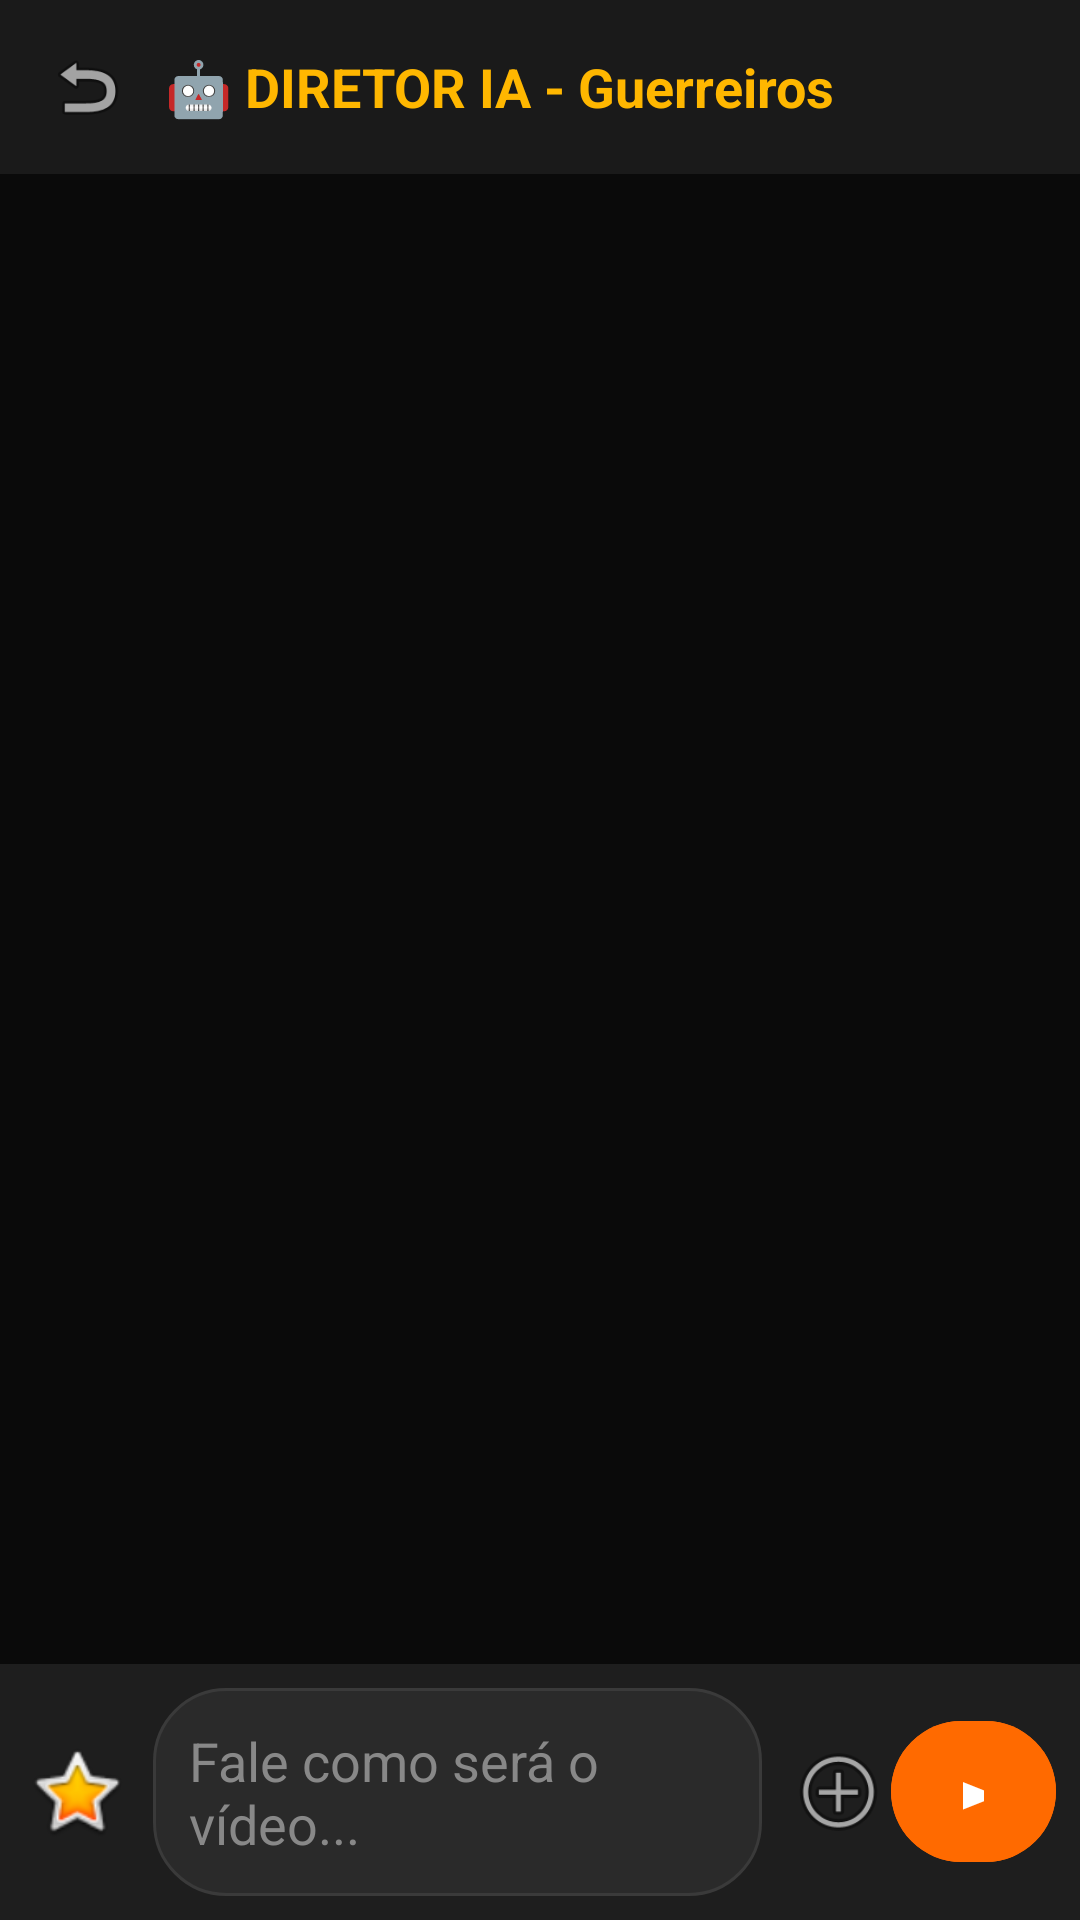

Screen size 1080x1920. Icon name, then its center in pixels as (x,y):
add: (838,1792)
revert: (88,87)
star on: (77,1791)
